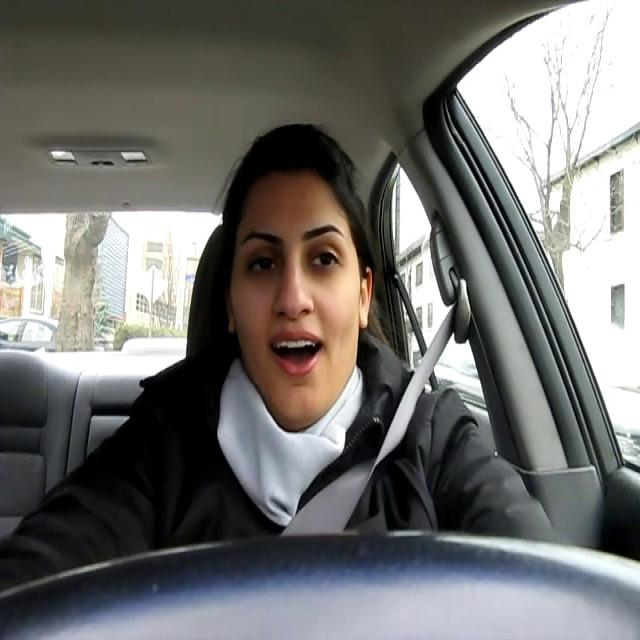open: (266, 325, 326, 380)
